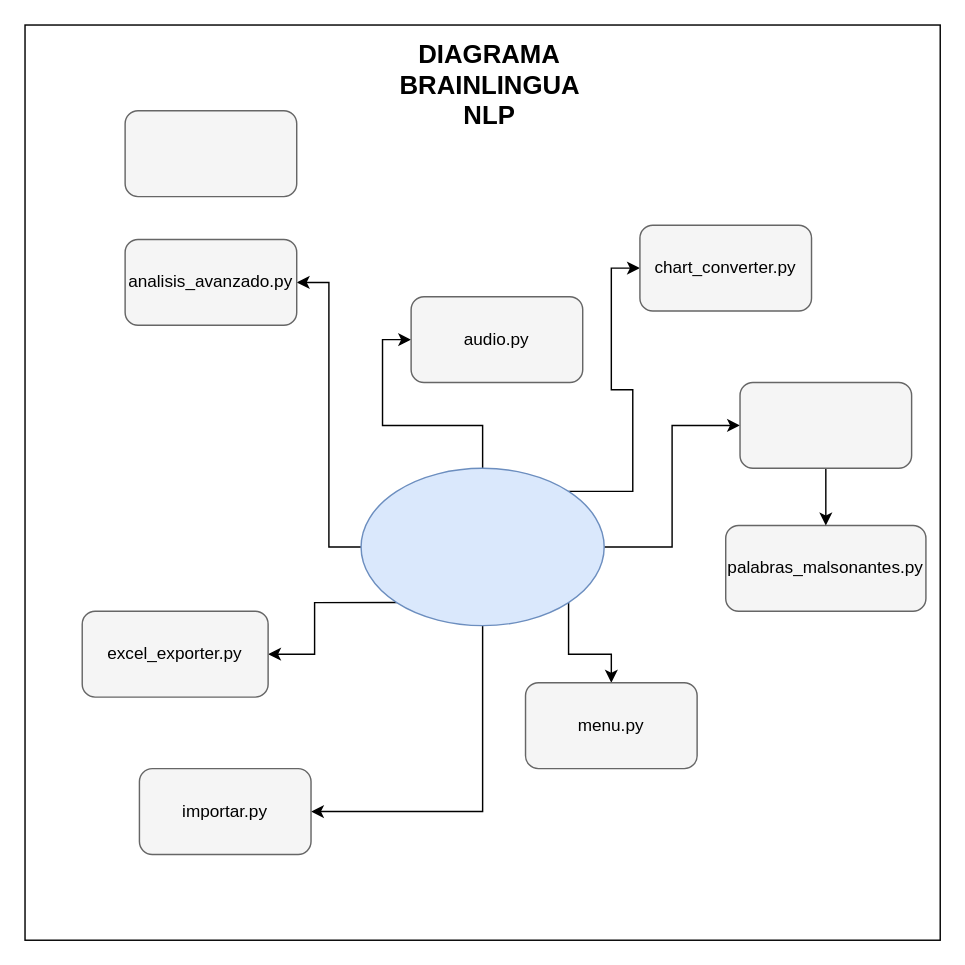
Some shapes in this 965 by 965 pixel diagram are drawn without their labels. Each missing label, with the centre of its shape:
"_init_.py" goes at pixel 210 153.
"main.py" goes at pixel 482 546.
"text_analysis.py" goes at pixel 825 424.
